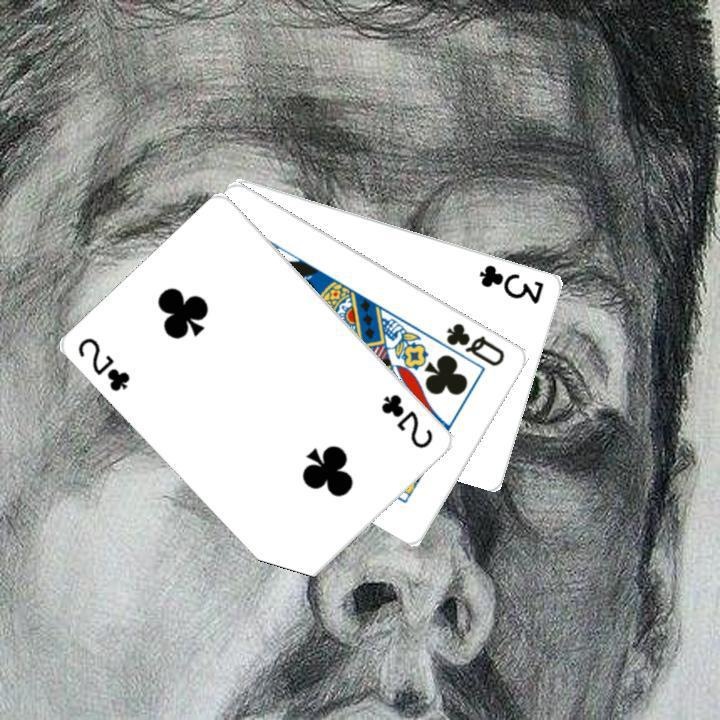2: (377, 389, 436, 451), (74, 333, 133, 394)
3: (475, 260, 547, 306)
Q: (442, 318, 508, 369)
